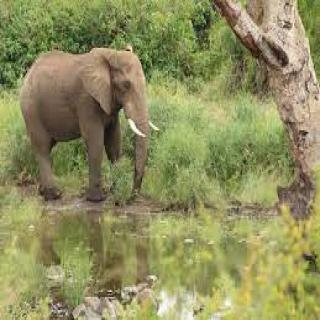Elephant: (20, 36, 163, 211)
